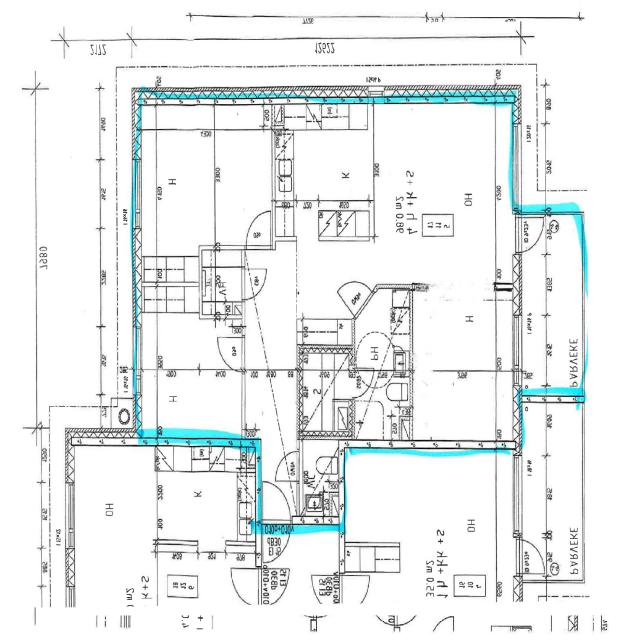door: (338, 266, 373, 318), (263, 516, 290, 562), (263, 477, 290, 523), (512, 217, 546, 252), (218, 337, 244, 371), (247, 212, 270, 250), (349, 368, 376, 398), (242, 269, 266, 299), (276, 451, 299, 481)
